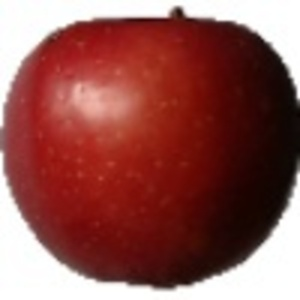maçã braeburn: (2, 9, 298, 286)
